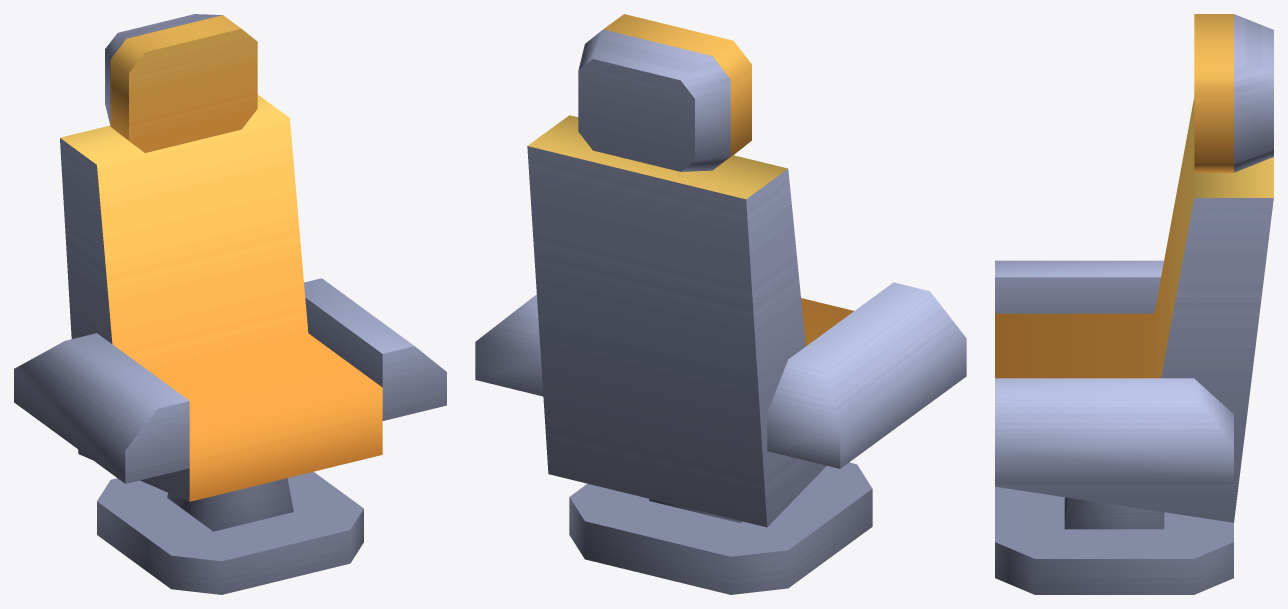
File: kst_chair_armrest_headrest.glb
3 renders of one model, left to right at view 1: azimuth 30°, elevation 25°; view 2: azimuth 150°, elevation 25°; view 3: azimuth 270°, elevation 25°, orthographic. The views are drawn at different scales.
Parts seen in each view (by area): view 1: chair-armrest-headrest; view 2: chair-armrest-headrest; view 3: chair-armrest-headrest.
Boxes of the visible parts, x1,y1,x2,y2 form: chair-armrest-headrest: (14, 14, 446, 594); chair-armrest-headrest: (475, 14, 966, 594); chair-armrest-headrest: (995, 14, 1273, 594).
Size of the model in its own units: 1 by 1.4 by 0.7.
1 material, 1 textured.
